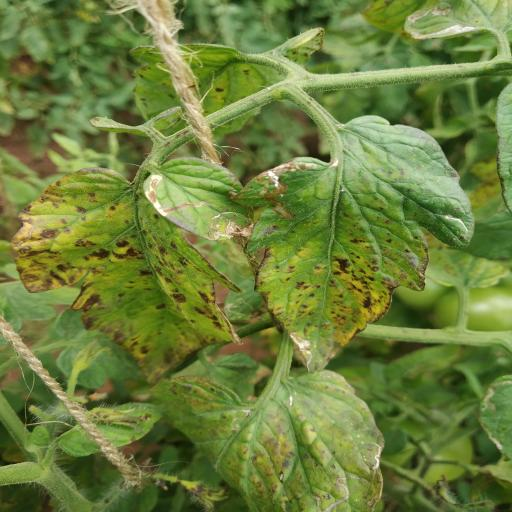Early Blight: (251, 111, 474, 378), (2, 162, 237, 386)
